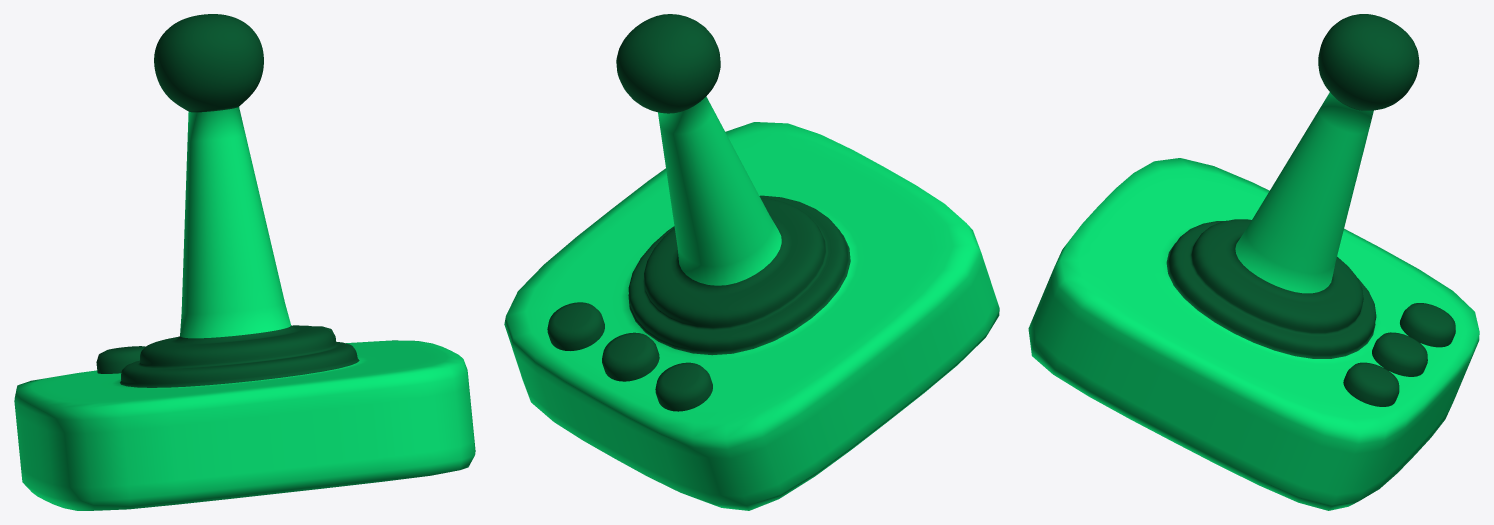
Rendered from icon_game.glb.
The picture shows the model from 3 angles, left to right: view 1: azimuth 30°, elevation 25°; view 2: azimuth 150°, elevation 25°; view 3: azimuth 270°, elevation 25°; orthographic projection. The views are drawn at different scales.
Visible parts, largest first — view 1: Cube; view 2: Cube; view 3: Cube.
Part boxes in pixels (box(x1,y1,x2,y2)): Cube: box(14, 14, 475, 510); Cube: box(504, 14, 999, 510); Cube: box(1028, 14, 1479, 510).
Bounding box in the file's own units: 0.3334 × 0.3481 × 0.3317.
